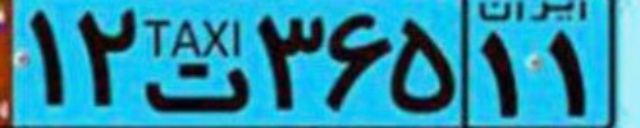1: (544, 32, 593, 117), (482, 30, 524, 117), (28, 12, 62, 103)
2: (78, 6, 131, 106)
3: (254, 14, 321, 110)
5: (392, 16, 455, 111)
6: (322, 11, 392, 111)
te: (143, 59, 250, 112)
